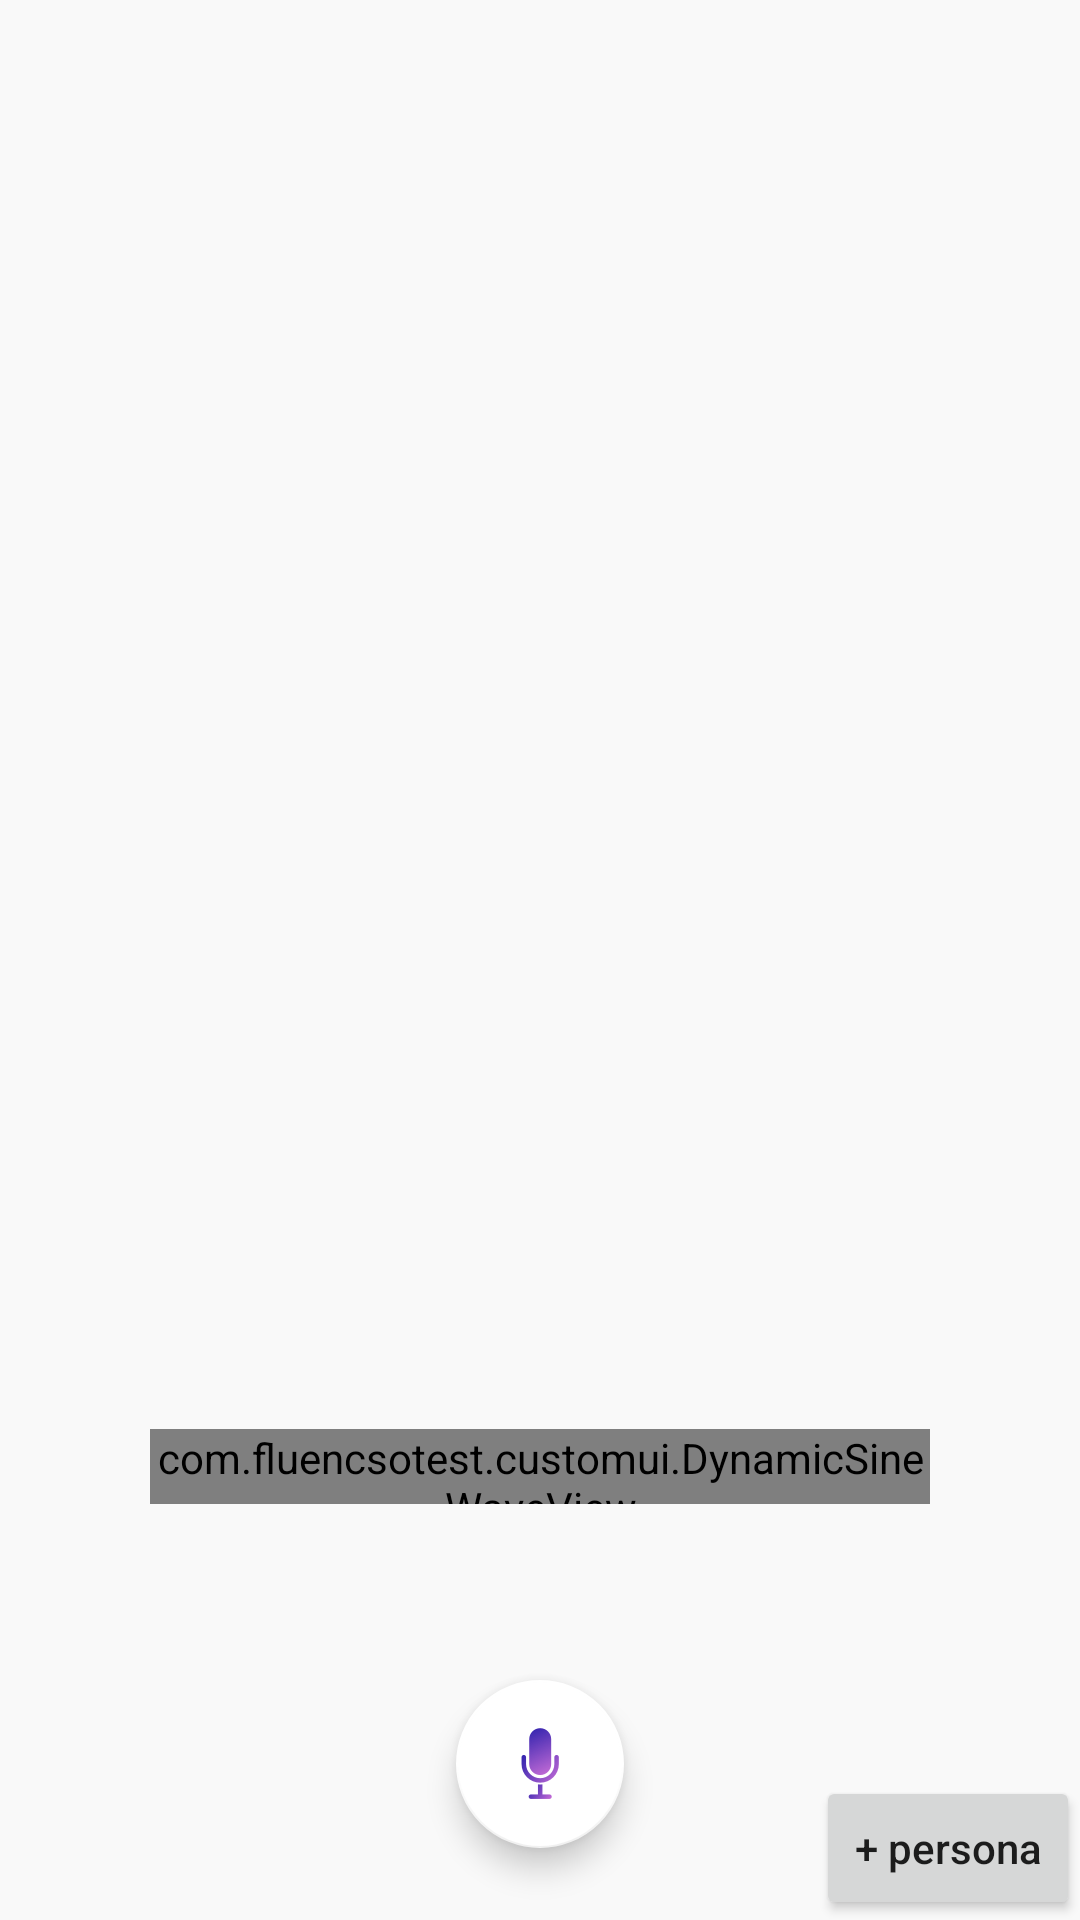

Icons on this 1080 x 1920 Android screen, each with its box as (x1,y1,x2,y2):
mic: (456,1728,624,1799)
